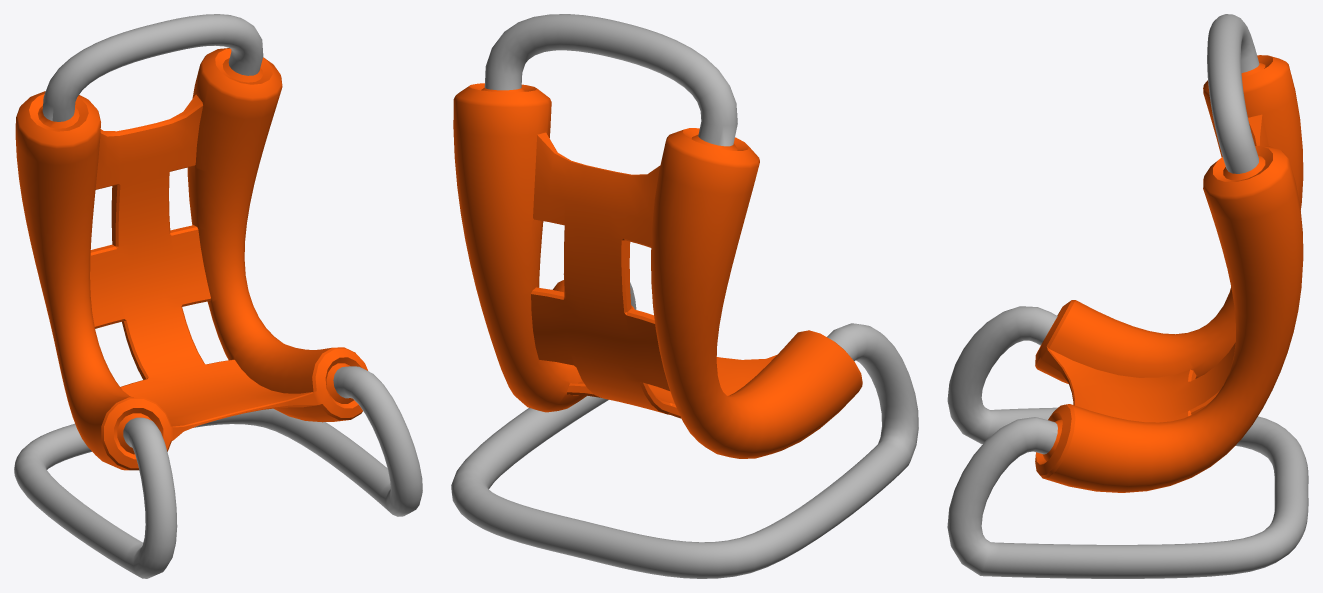
File: Chair.fbx
3 views of the same model, side by side, from view 1: azimuth 30°, elevation 25°; view 2: azimuth 150°, elevation 25°; view 3: azimuth 270°, elevation 25° (orthographic). The views are drawn at different scales.
Visible parts, largest first — view 1: Chair; view 2: Chair; view 3: Chair.
Part boxes in pixels (bbox=[...]): Chair: bbox=[14, 14, 422, 578]; Chair: bbox=[451, 14, 918, 578]; Chair: bbox=[947, 14, 1308, 578].
Size of the model in its own units: 110 by 157 by 110.
